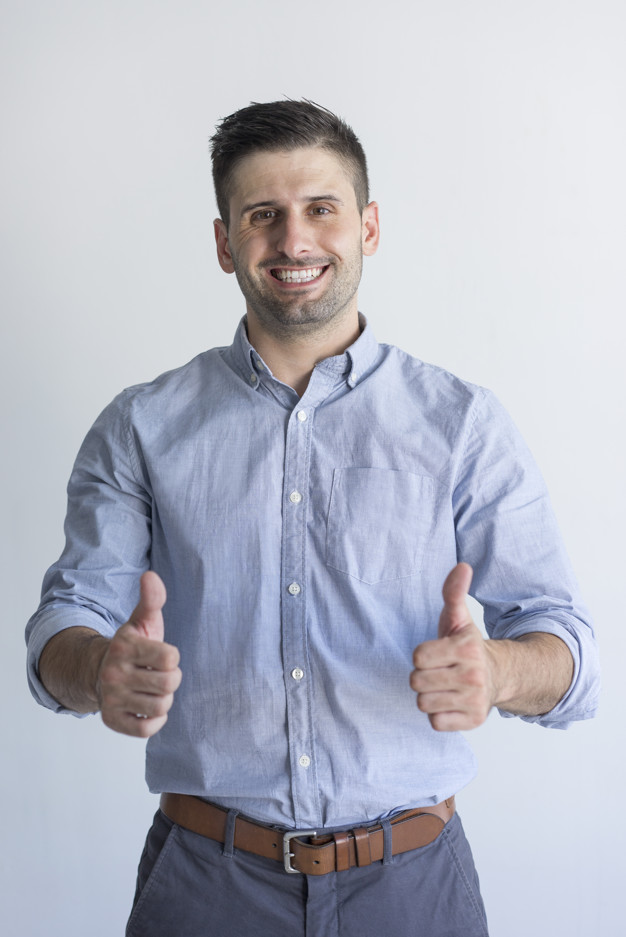thumbsup: (96, 570, 182, 738), (409, 562, 490, 732)
